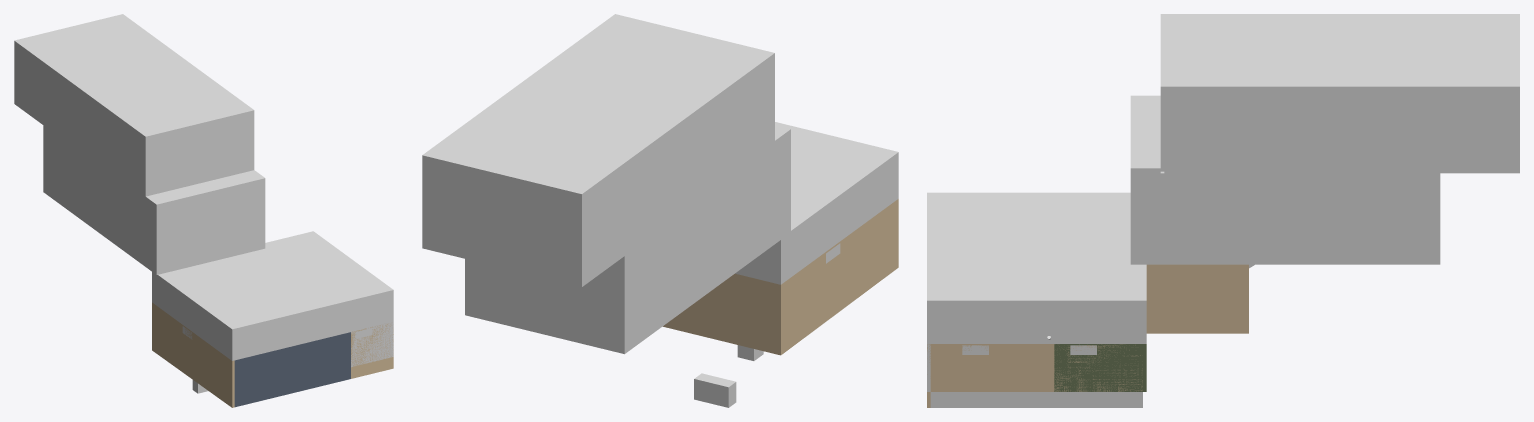
Rendered from apartment_v2.glb.
3 renders of one model, left to right at view 1: azimuth 30°, elevation 25°; view 2: azimuth 150°, elevation 25°; view 3: azimuth 270°, elevation 25°, orthographic. The views are drawn at different scales.
Parts seen in each view (by area): view 1: Cube.035, Cube.402, Cube.392, Cube.306, Cube.389, Cube.003, Cube.287, Cube.004, Cube.036, Cube.613, Cube.163, Cube.593 (+6 smaller); view 2: Cube.402, Cube.392, Cube.306, Cube.391, Cube.035, Cube.004, Cube.335, Cube.034, Cube.036, Cube.578, Cube.613, Cube.387 (+3 smaller); view 3: Cube.390, Cube.286, Cube.402, Cube.035, Cube.646, Cube.031, Cube.037, Cube.260, Cube.036, Cube.029, Cube.592, Cube.388 (+6 smaller).
Part boxes in pixels (x1,y1,x2,y2): Cube.035: (176, 248, 393, 360); Cube.402: (19, 16, 250, 135); Cube.392: (16, 41, 147, 199); Cube.306: (45, 127, 158, 274); Cube.389: (147, 109, 254, 195); Cube.003: (234, 332, 350, 407); Cube.287: (184, 182, 265, 267); Cube.004: (153, 303, 234, 407); Cube.036: (152, 254, 258, 319); Cube.613: (154, 304, 232, 406); Cube.163: (351, 323, 393, 378); Cube.593: (351, 321, 393, 367); Cube.402: (429, 16, 769, 191); Cube.392: (582, 52, 774, 284); Cube.306: (627, 136, 789, 351); Cube.391: (422, 153, 584, 287); Cube.035: (775, 122, 898, 258); Cube.004: (782, 199, 898, 353); Cube.335: (501, 256, 624, 353); Cube.034: (663, 273, 782, 355); Cube.036: (735, 206, 815, 284); Cube.578: (479, 254, 627, 353); Cube.613: (782, 199, 898, 351); Cube.387: (694, 373, 736, 407); Cube.390: (1164, 85, 1514, 173); Cube.286: (1134, 171, 1434, 264); Cube.402: (1164, 15, 1514, 84); Cube.035: (927, 192, 1080, 343); Cube.646: (1146, 264, 1248, 333); Cube.031: (930, 344, 1054, 391); Cube.037: (1081, 263, 1146, 343); Cube.260: (1054, 344, 1142, 391); Cube.036: (1081, 192, 1130, 247); Cube.029: (930, 392, 1054, 407); Cube.592: (930, 344, 1142, 391); Cube.388: (1130, 95, 1160, 150).
Bounding box in the file's own units: 14.62 × 21.9 × 33.5.
